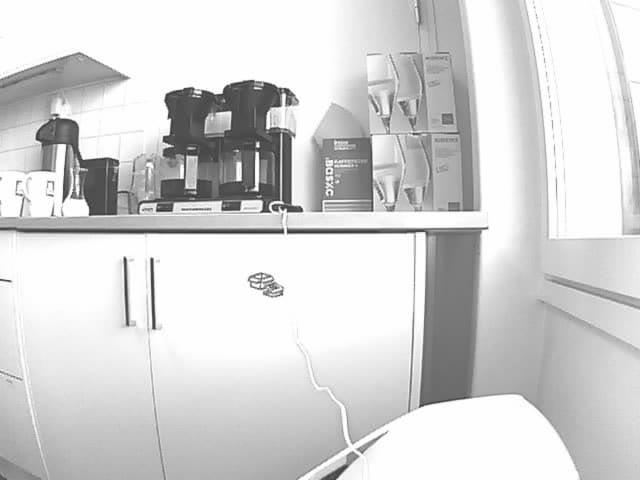not empty coffee: (218, 140, 275, 196)
